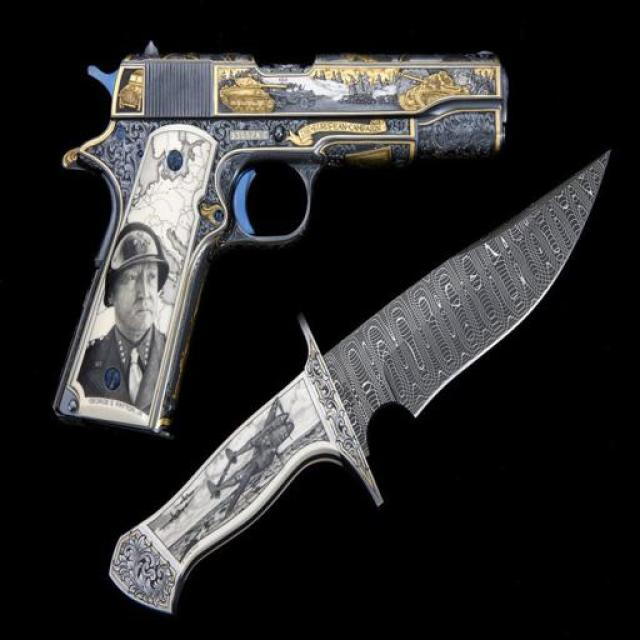pistol: (42, 41, 511, 432)
